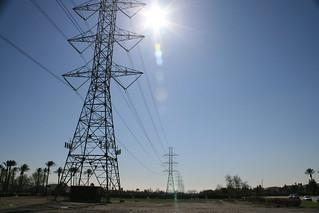power_tower: (57, 0, 150, 205), (160, 144, 180, 200)
